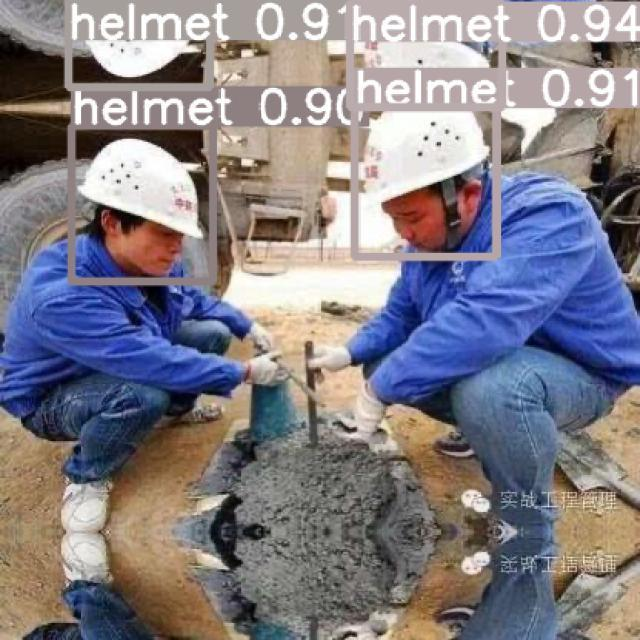white helmet: (76, 132, 213, 259), (363, 114, 490, 214)
